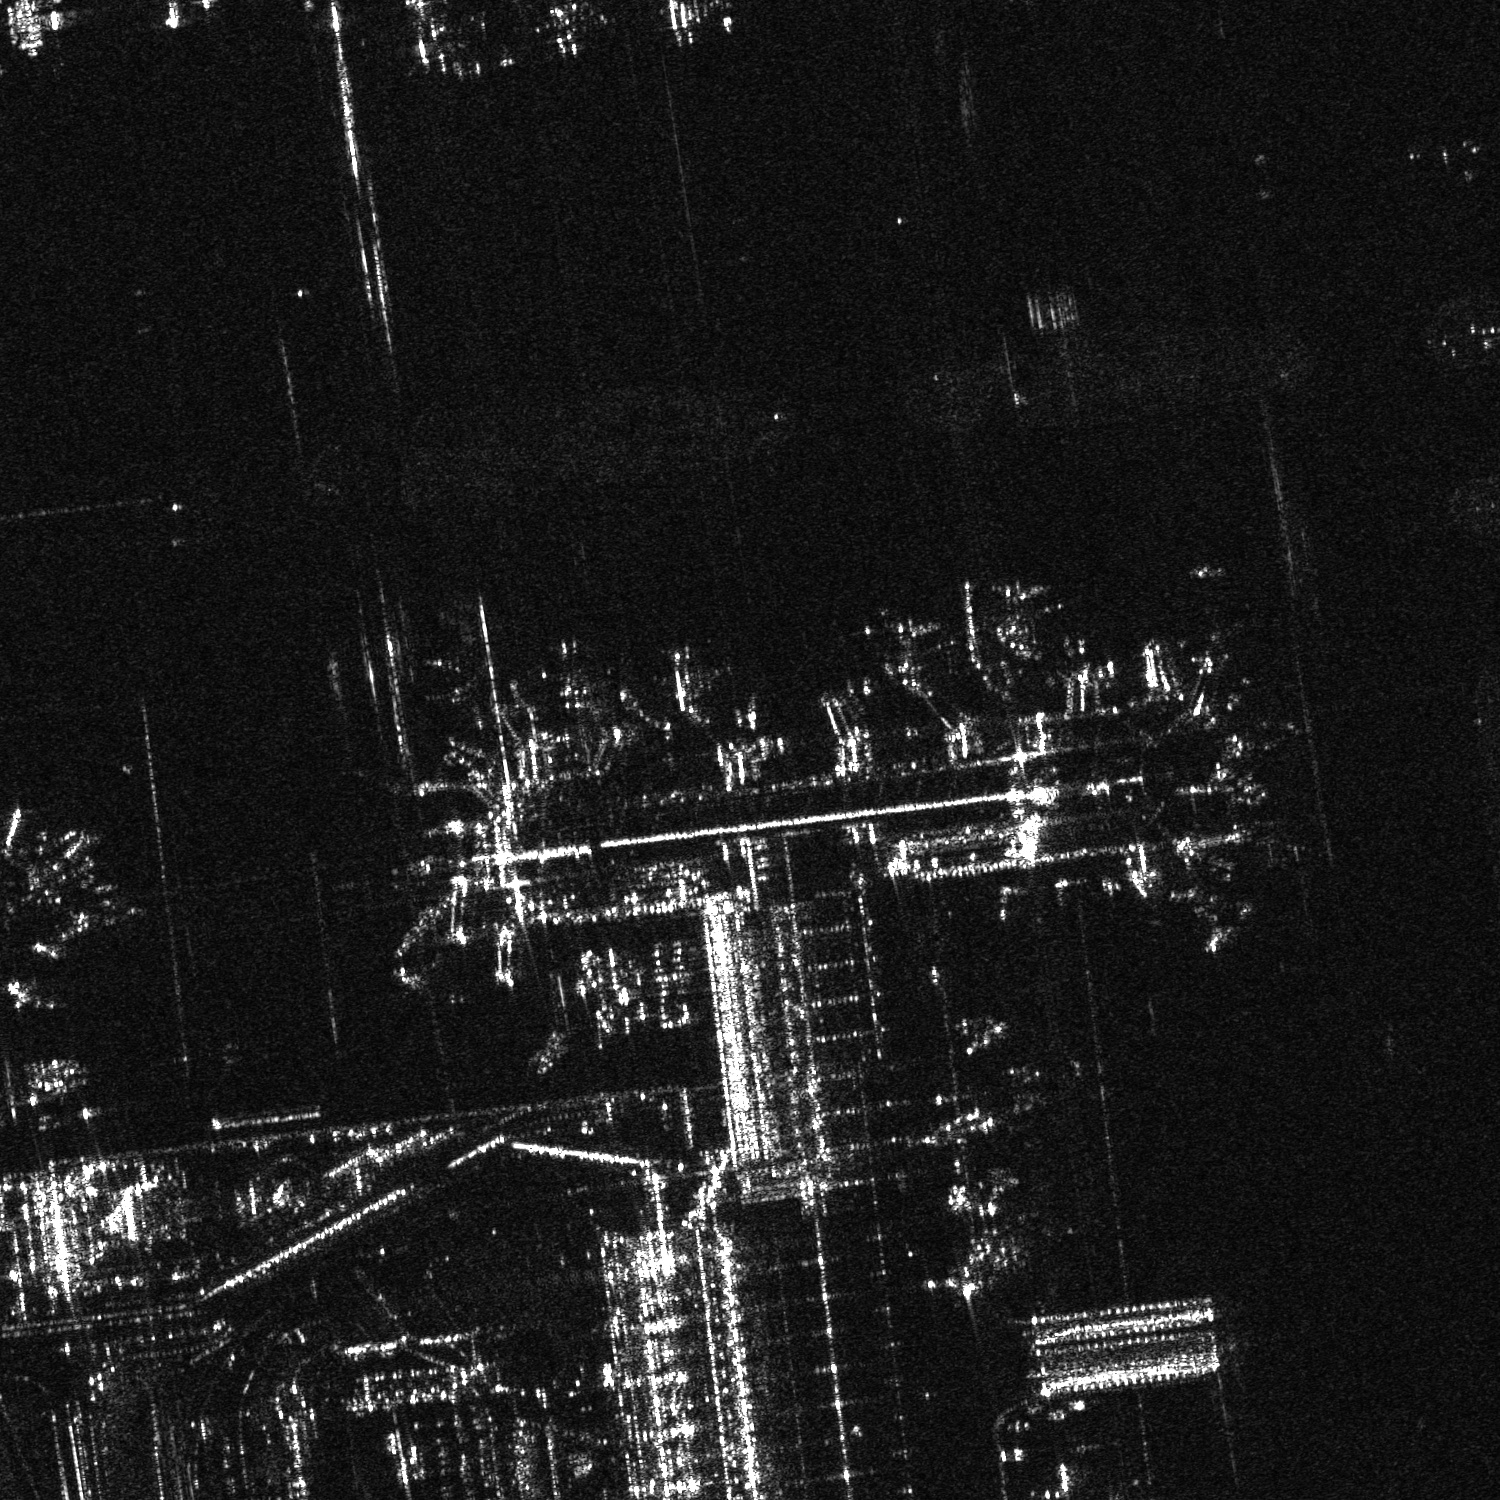A220: (644, 641, 725, 716), (543, 635, 613, 707), (865, 602, 945, 663), (984, 563, 1049, 615)
Boeing737: (423, 654, 489, 707)
